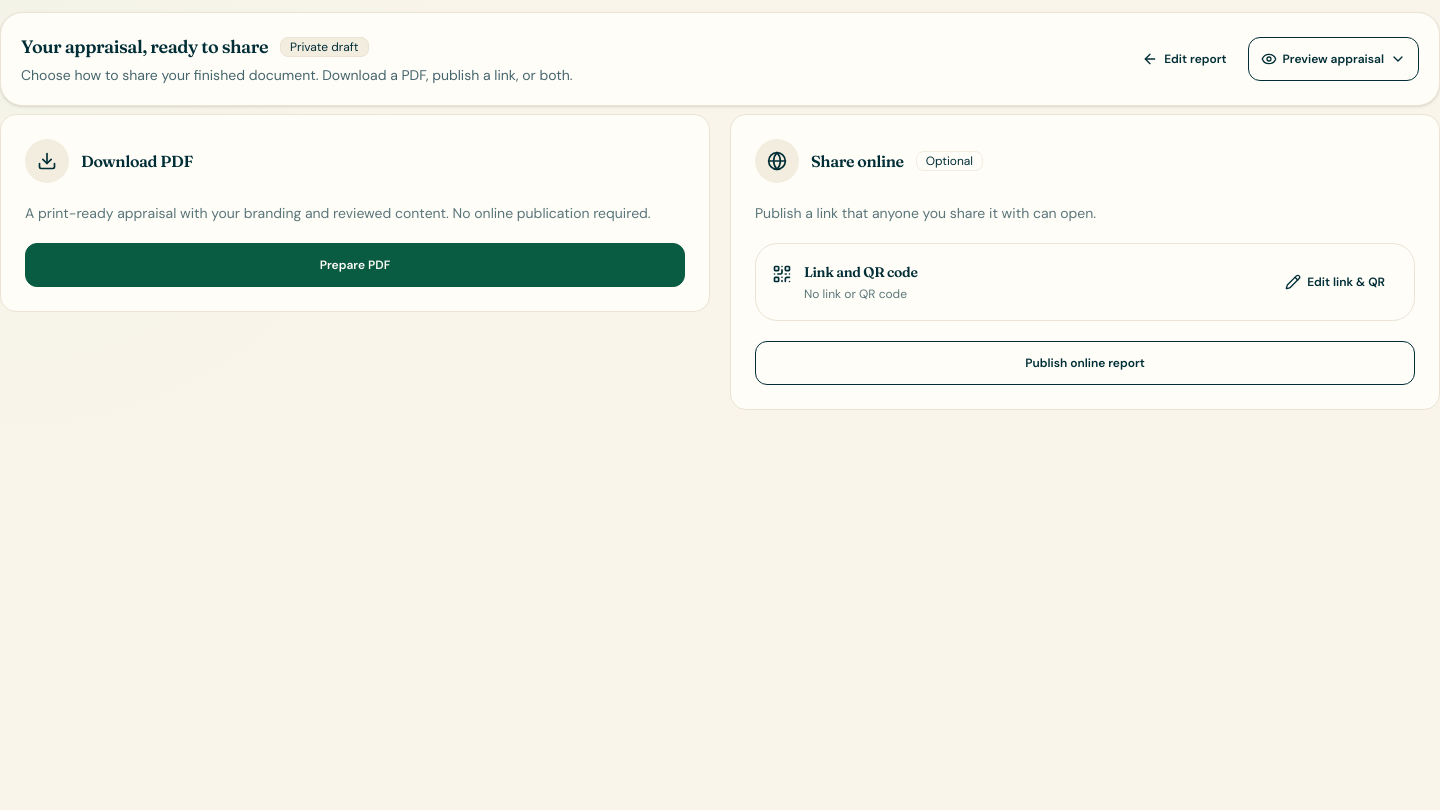
it: appraisal delivery › publishes an online report without starting PDF generation
This screenshot has width=1440, height=810.
Click the button "Publish online report".
click(1085, 363)  # box [755, 341, 1415, 385]
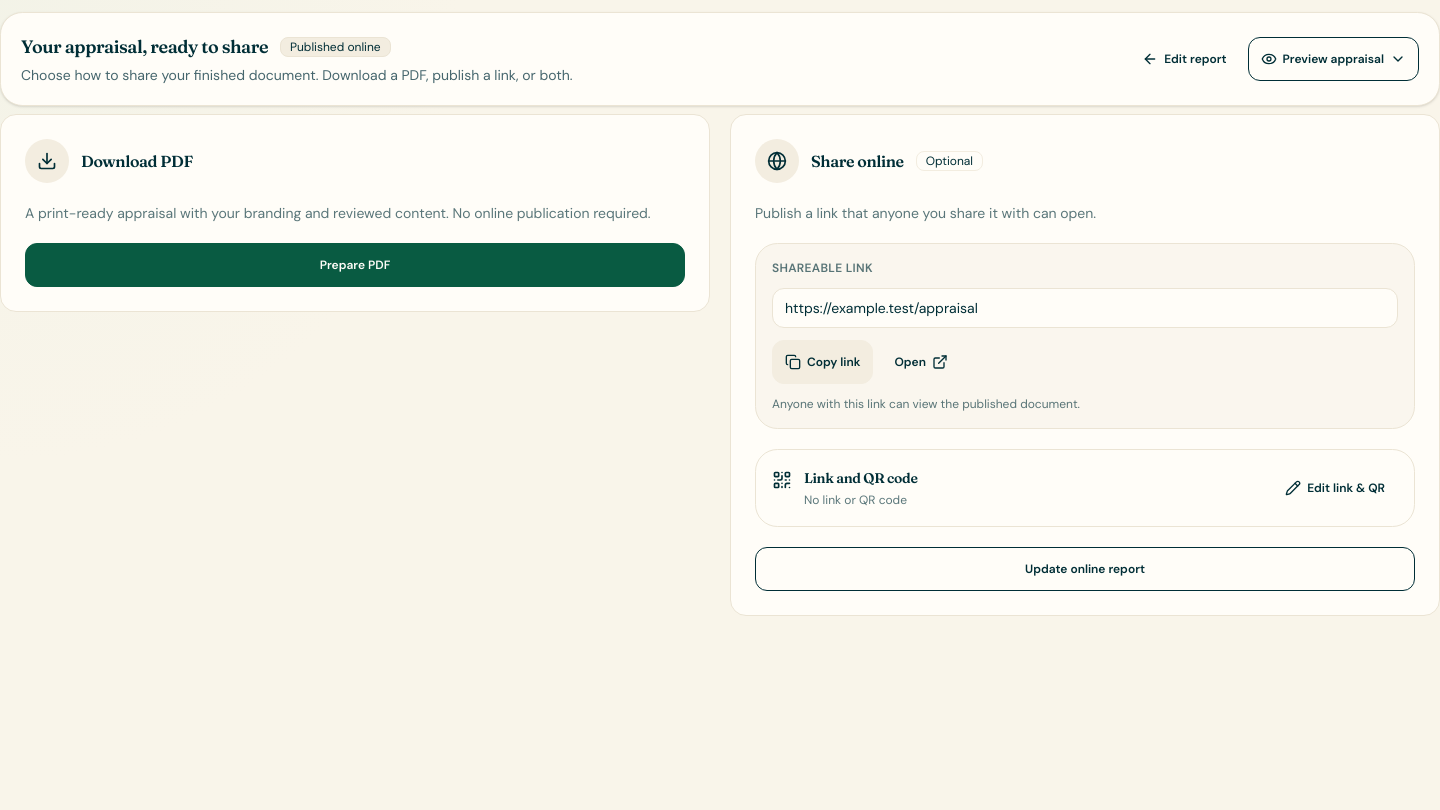
Expected: the button "Prepare PDF" is shown, [25, 243, 685, 287]
Result: the button "Copy link" is shown at [772, 340, 873, 384]
